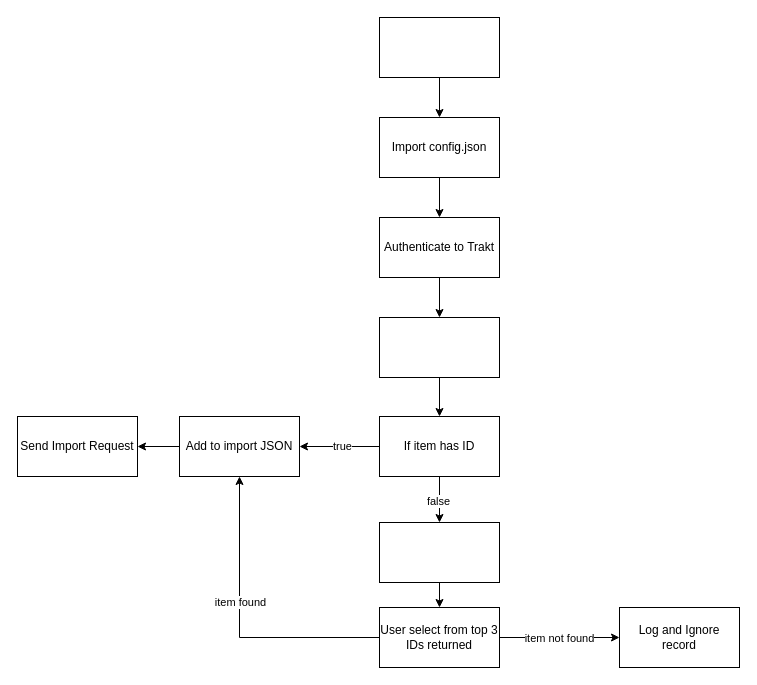
This 757x685 diagram has some shape labels left out. The shapes that lost their labels are listed below. From the top down, each one's centre as x and y in pixels, then its label:
the point at 439,47: Import CSV
the point at 439,347: For Each Record In CSV
the point at 439,552: Search on TMDB
